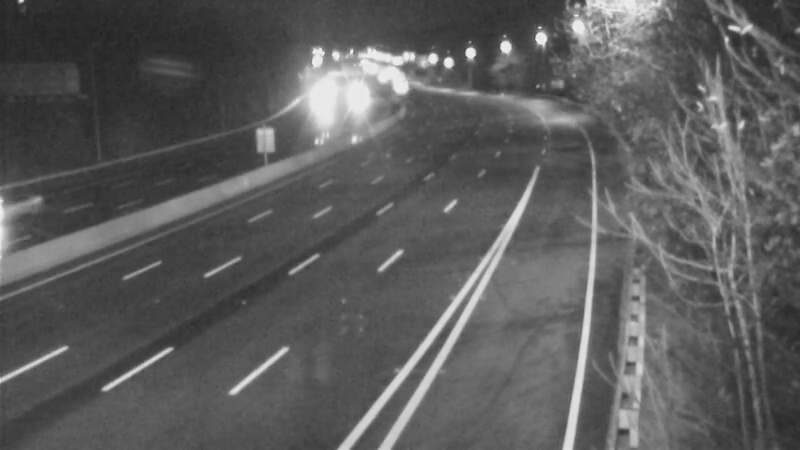vehicle: (1, 165, 72, 245), (378, 62, 428, 112), (293, 79, 343, 129), (331, 76, 381, 126)
